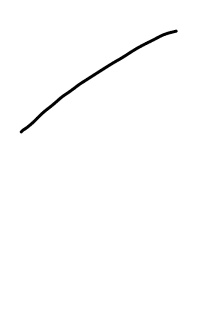Line: (17, 26, 180, 137)
